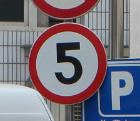speed_limit_5: (28, 22, 108, 104)
